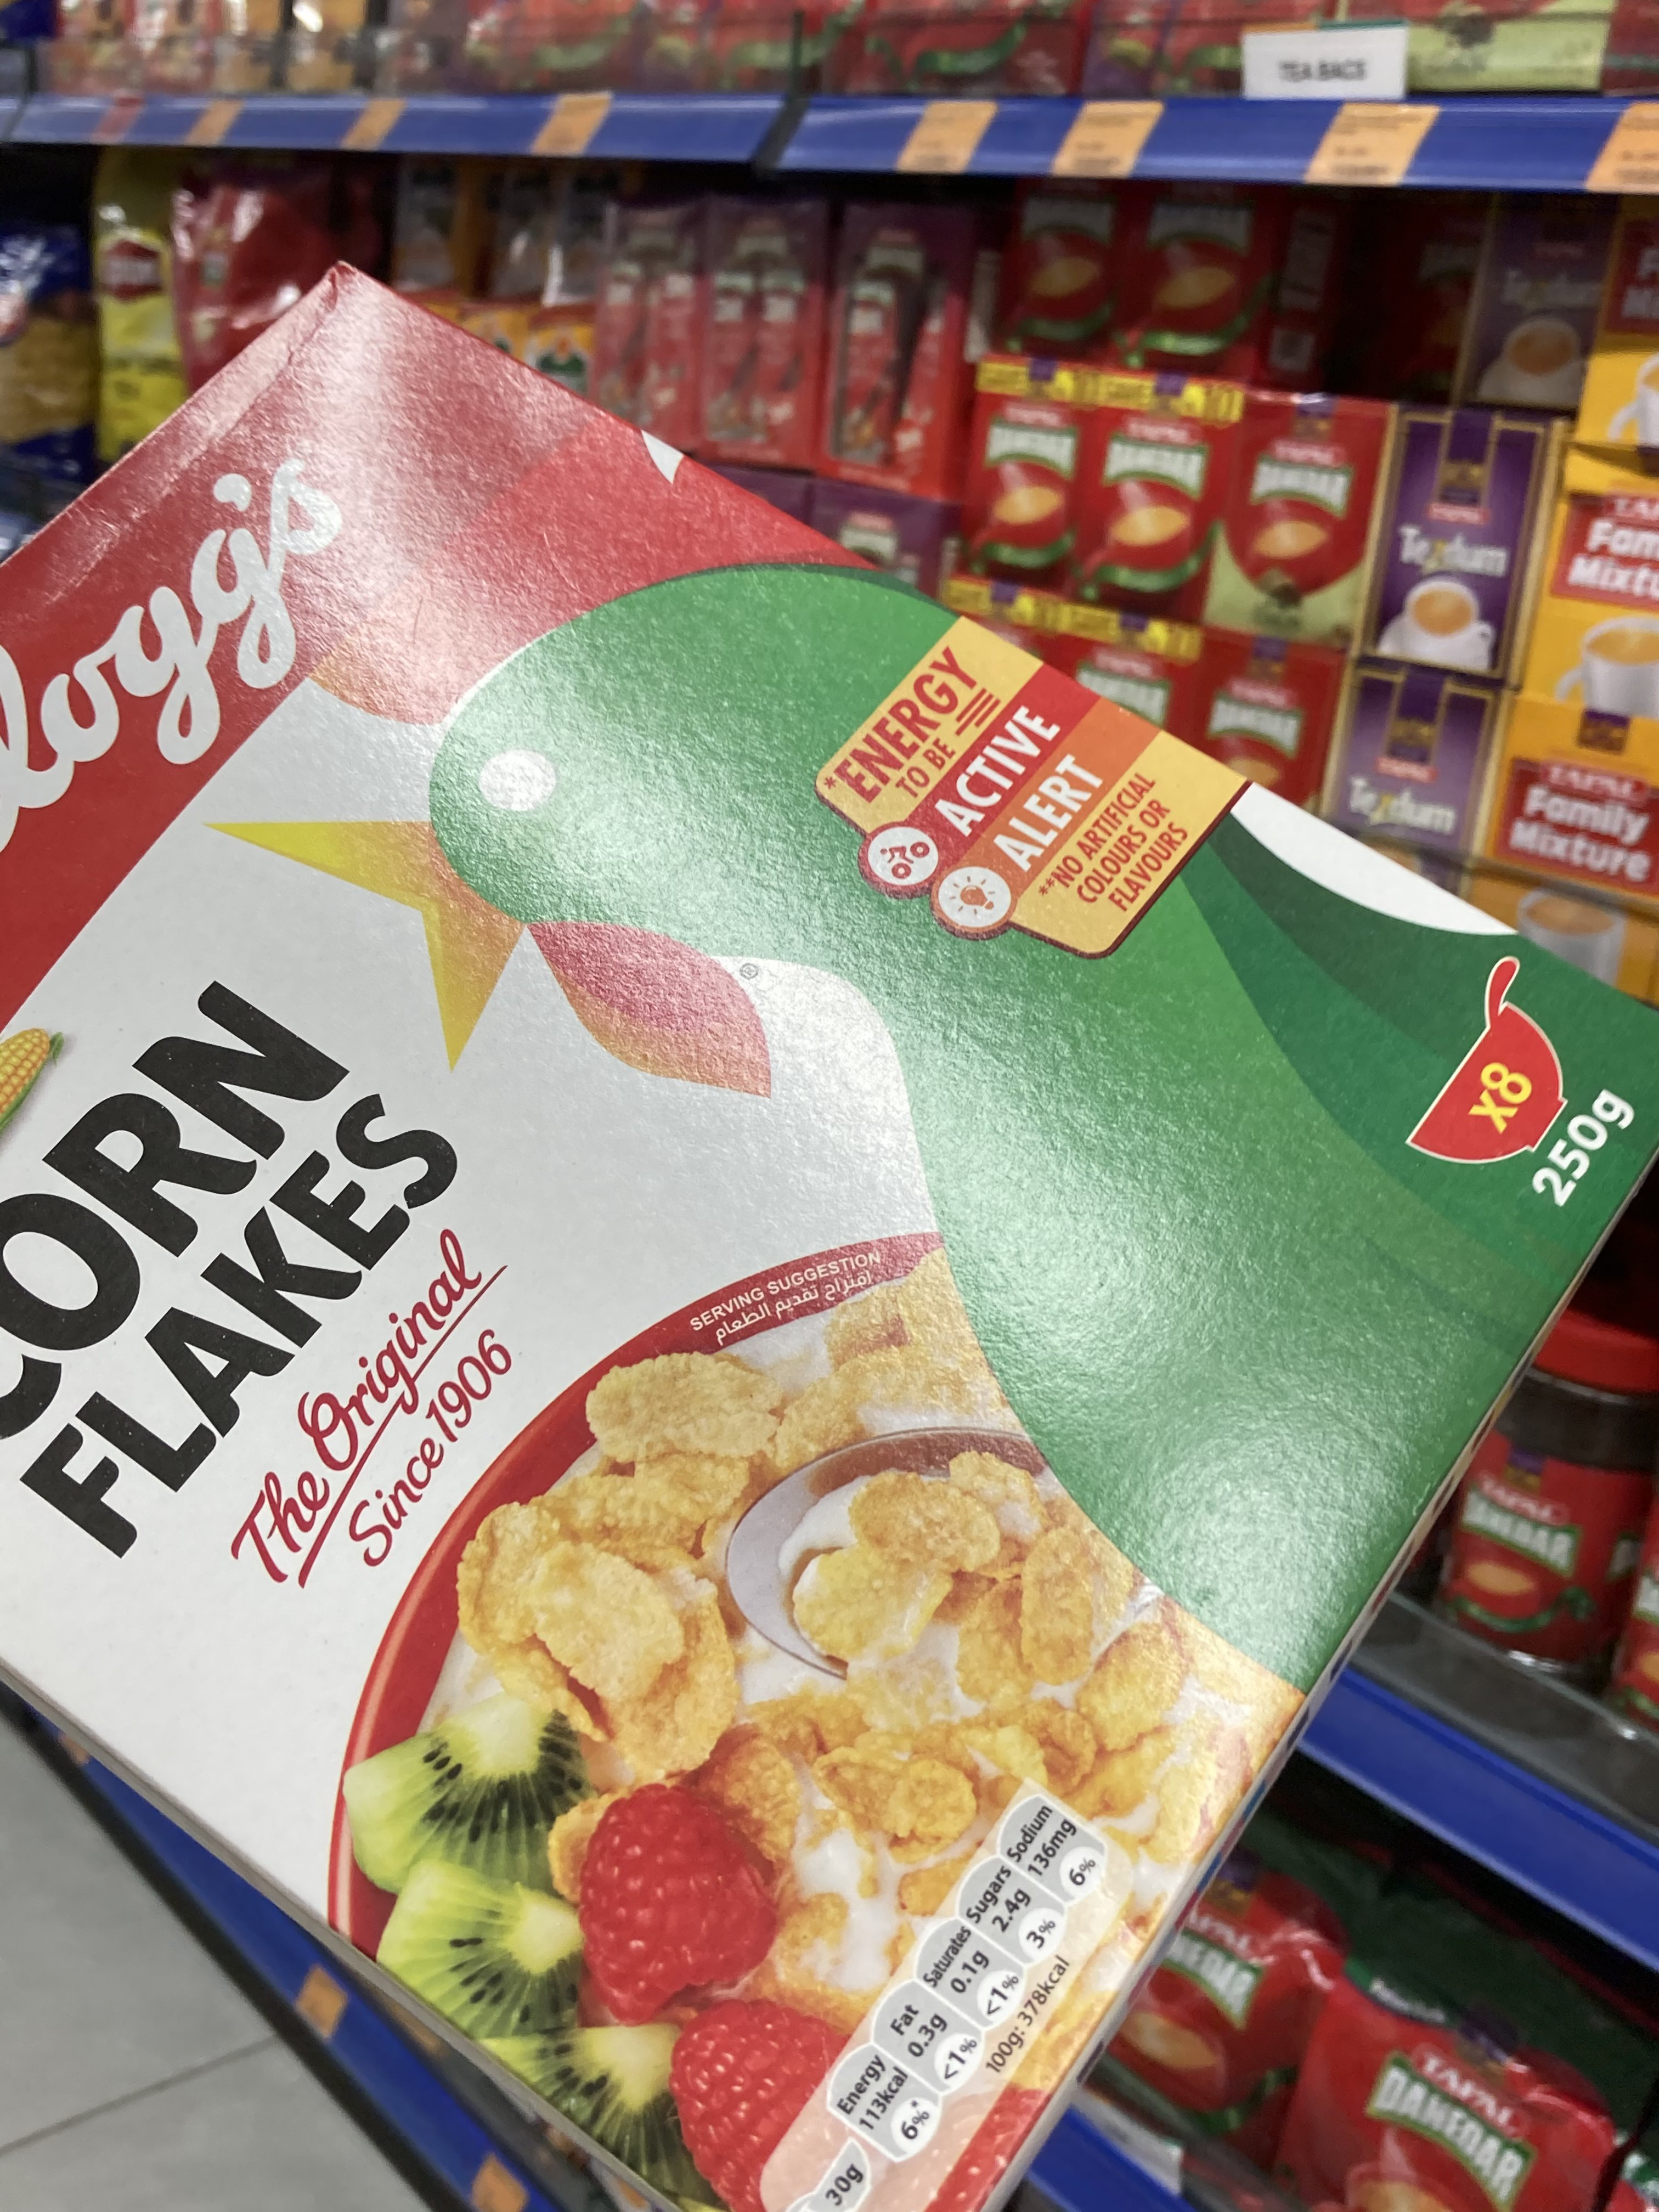Kellogg's Corn Flakes: (2, 263, 1659, 2212)
